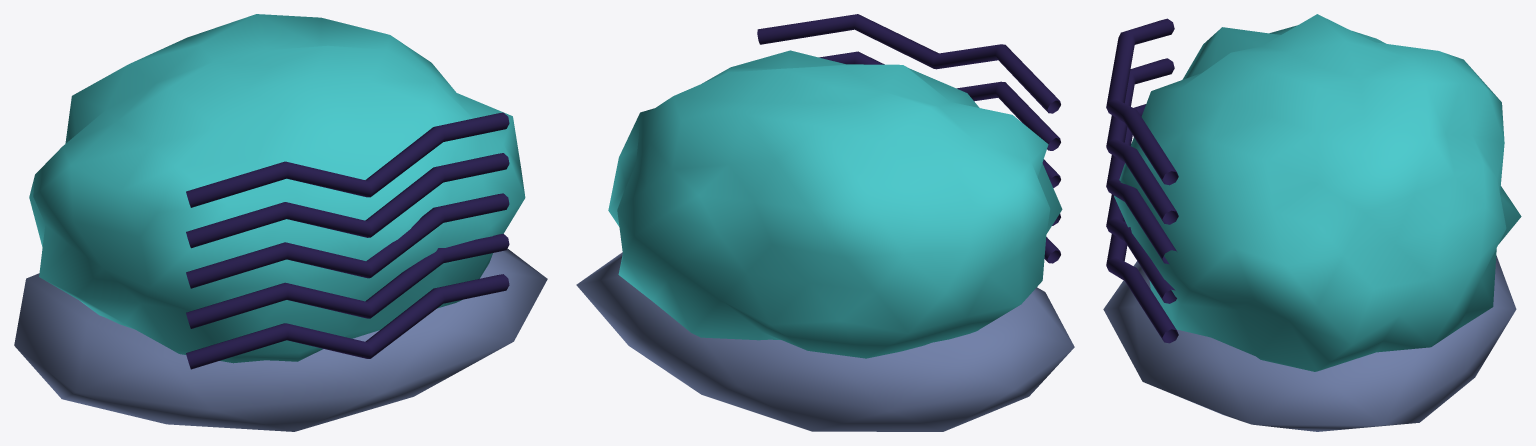
File: r068_kart_coral_dressing_kart_coral_03.glb
The picture shows the model from 3 angles, left to right: view 1: azimuth 30°, elevation 25°; view 2: azimuth 150°, elevation 25°; view 3: azimuth 270°, elevation 25°; orthographic projection. The views are drawn at different scales.
Parts seen in each view (by area): view 1: r068_kart_coral_dressing_kart_coral_03.001; view 2: r068_kart_coral_dressing_kart_coral_03.001; view 3: r068_kart_coral_dressing_kart_coral_03.001.
Part boxes in pixels (bbox=[...]): r068_kart_coral_dressing_kart_coral_03.001: bbox=[14, 14, 547, 431]; r068_kart_coral_dressing_kart_coral_03.001: bbox=[576, 14, 1074, 431]; r068_kart_coral_dressing_kart_coral_03.001: bbox=[1103, 14, 1521, 431].
Bounding box in the file's own units: 2.1 × 1.44 × 1.65.
